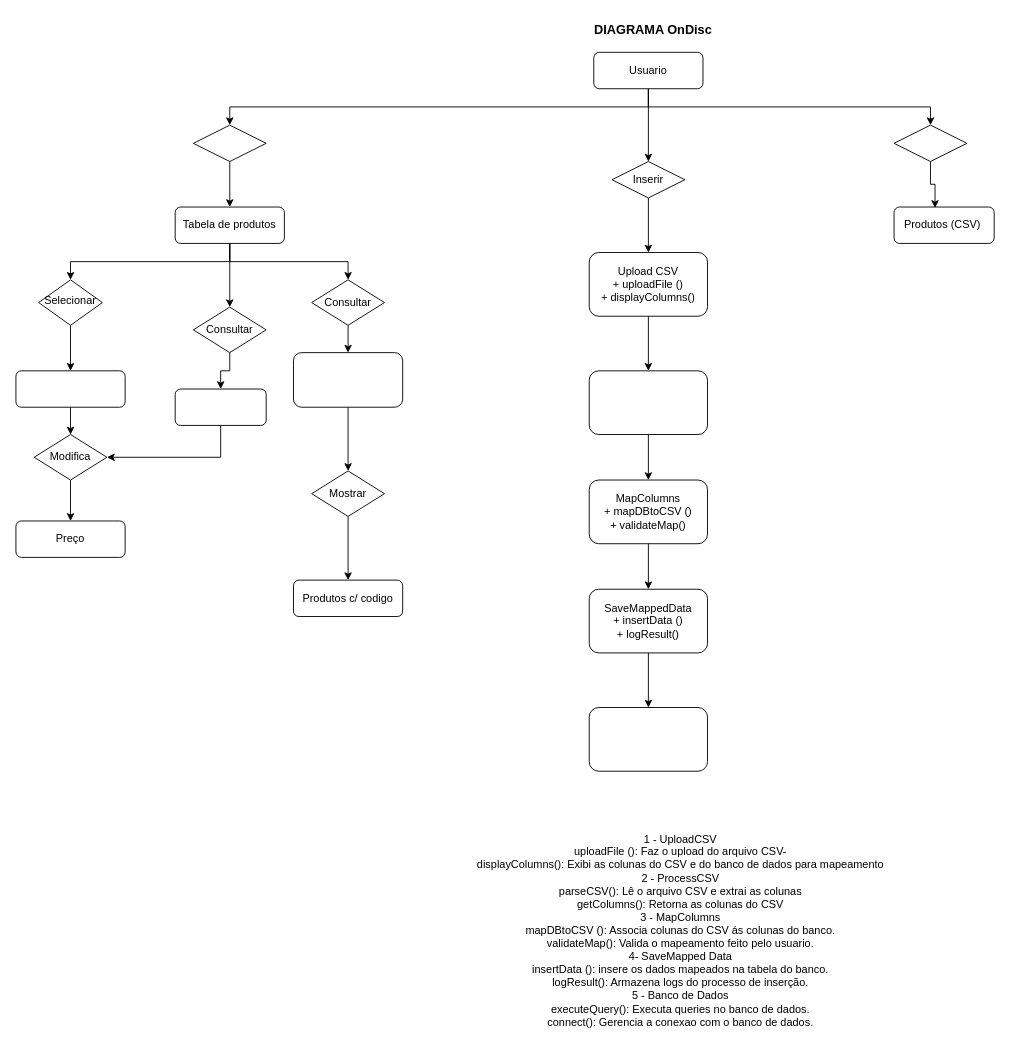
This 1010x1050 diagram has some shape labels left out. Here are the shapes that lost their labels. From the top down, the centre of each, then its label:
At pixel 229 143: "Consulta".
At pixel 930 143: "Atualizar".
At pixel 70 388: "Produto".
At pixel 348 379: "Codigo do produto".
At pixel 220 406: "KuantoKusta".
At pixel 648 402: "Process CSV + parseCSV () + getColumns()".
At pixel 648 739: "BancoDeDados + executeQuery () + connect ()".
